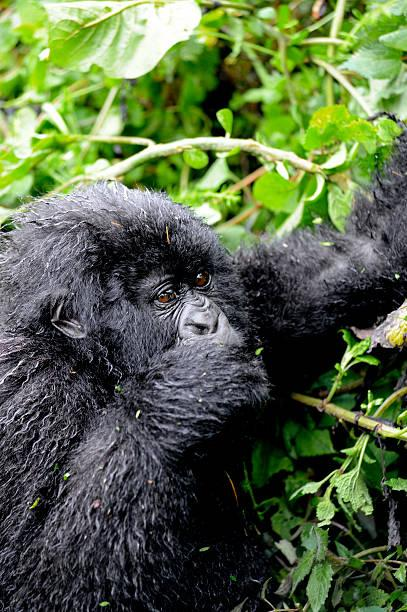goriile_montagne: (0, 181, 407, 612)
